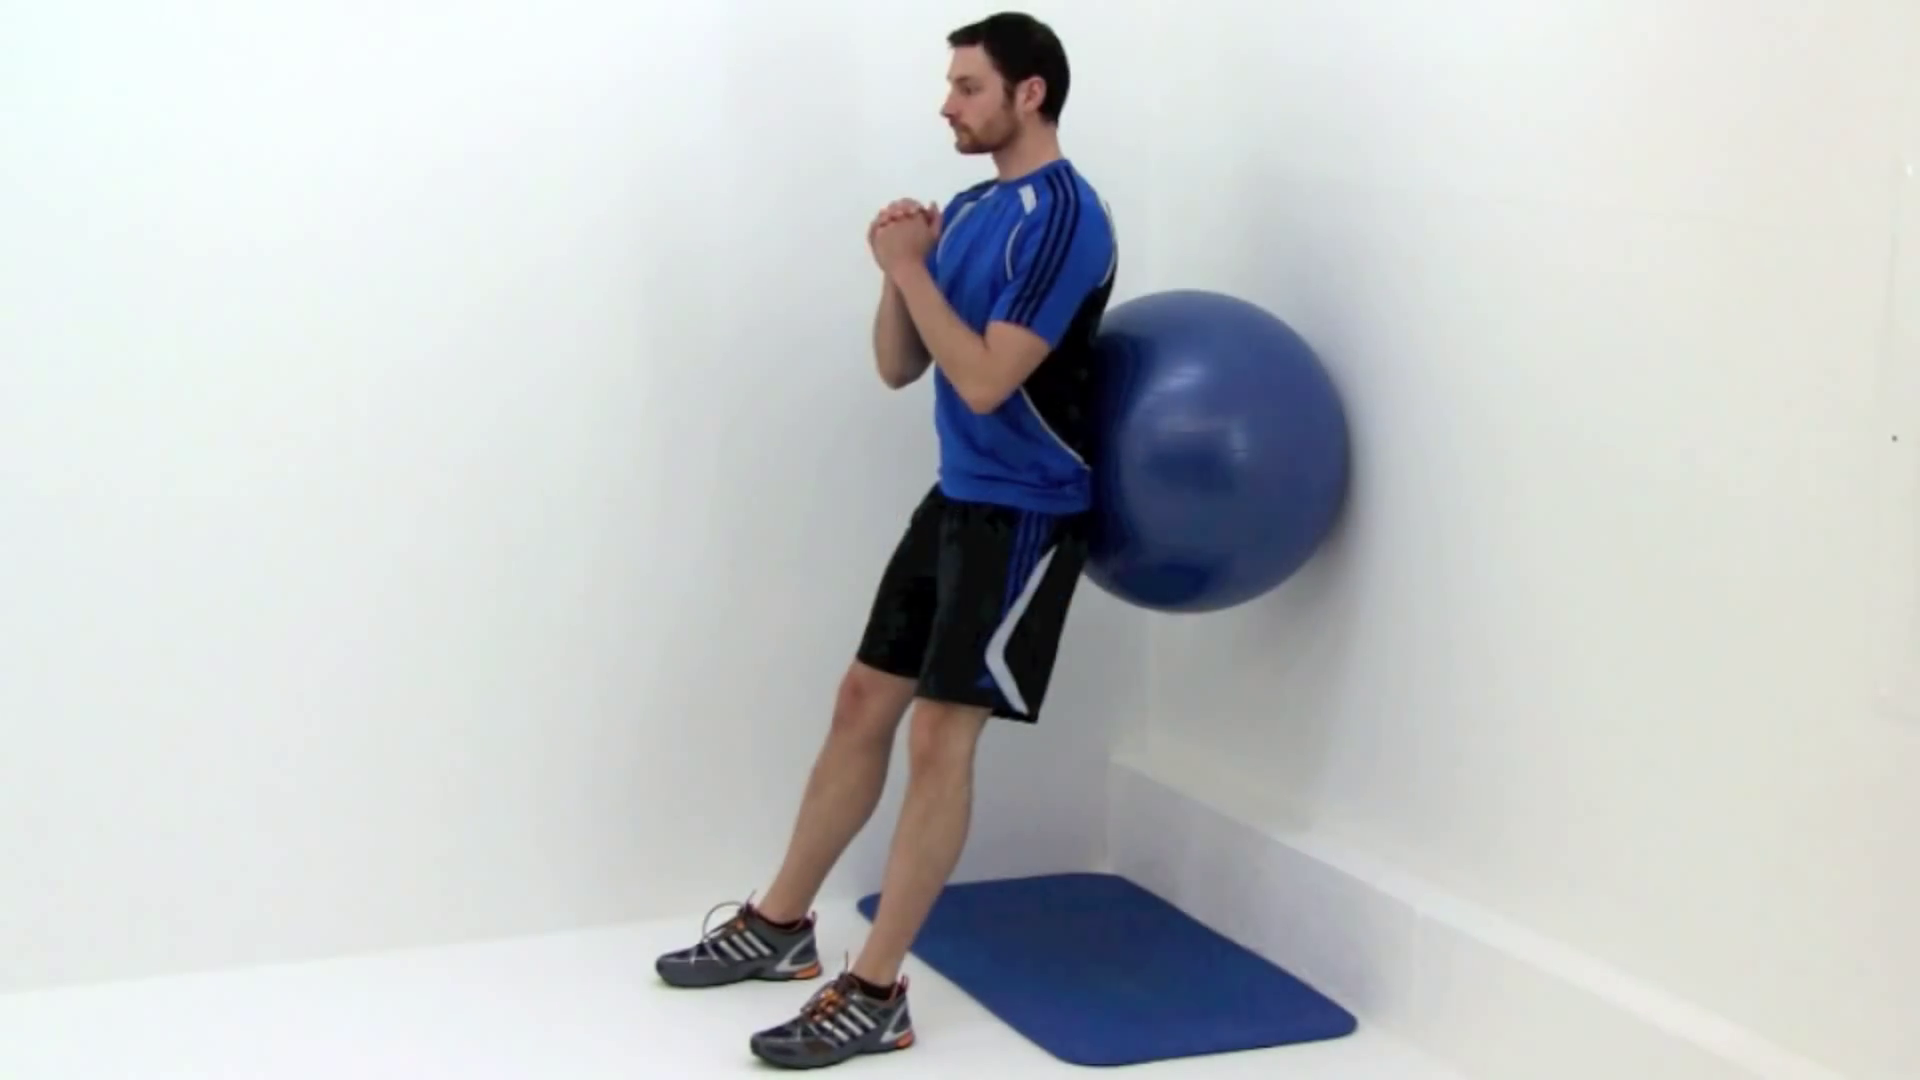yogaball: (1065, 284, 1362, 644)
